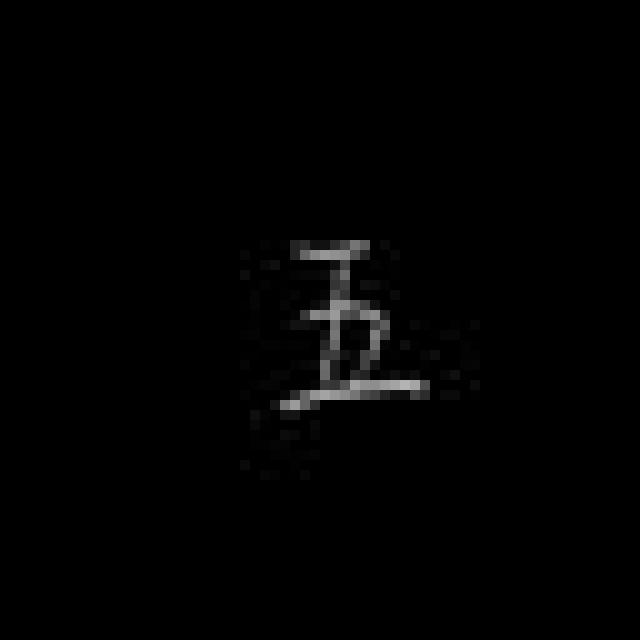5 -five-: (268, 235, 430, 419)
